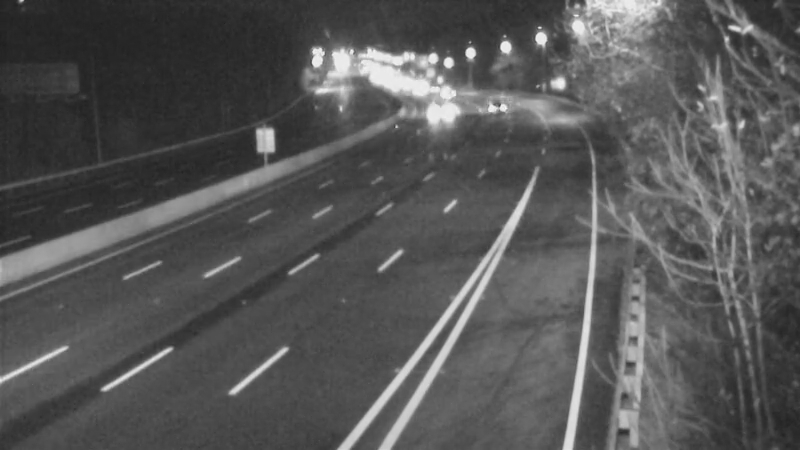vehicle: (425, 68, 475, 118), (466, 84, 516, 134), (413, 87, 463, 137)
